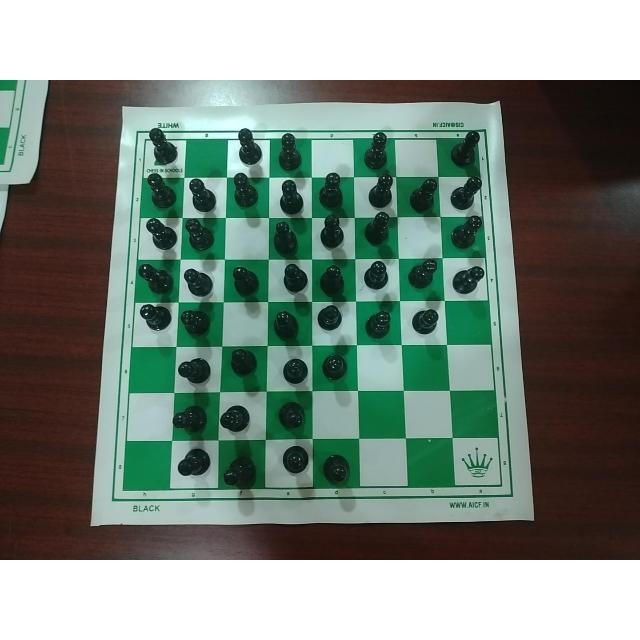black-pawn: (137, 125, 181, 165), (443, 129, 488, 168), (355, 130, 394, 170), (222, 455, 262, 494), (228, 127, 266, 167), (132, 259, 175, 294), (278, 440, 314, 480), (144, 213, 178, 255), (174, 446, 211, 484), (275, 128, 306, 172), (323, 448, 355, 490), (273, 397, 308, 435), (228, 171, 262, 210), (174, 354, 213, 388), (167, 403, 208, 435), (278, 262, 314, 298), (277, 353, 313, 389), (144, 171, 177, 210), (230, 261, 263, 299), (452, 172, 484, 211), (271, 218, 303, 257), (180, 262, 214, 298), (315, 300, 349, 336), (363, 307, 395, 345), (320, 351, 353, 387), (221, 346, 258, 378), (448, 213, 481, 248), (364, 174, 396, 210), (316, 213, 348, 249), (220, 398, 252, 434), (364, 212, 395, 248), (451, 262, 485, 294), (136, 301, 170, 333), (272, 307, 304, 341), (411, 305, 445, 337), (317, 172, 347, 208), (277, 177, 305, 215), (411, 174, 439, 212), (186, 177, 218, 210), (406, 257, 440, 288), (182, 219, 214, 251), (177, 306, 210, 337), (362, 259, 392, 291), (318, 263, 346, 297)
